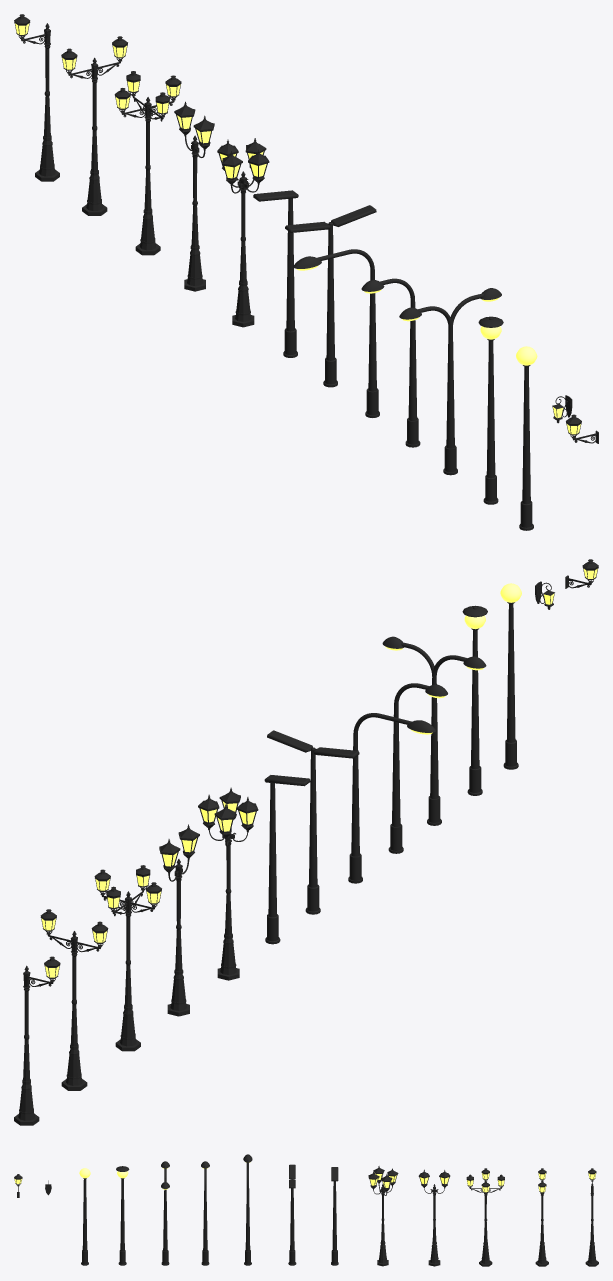
File: simple_collection_of_low_poly_street_lights_v2.glb
3 views of the same model, one above another, from view 1: azimuth 30°, elevation 25°; view 2: azimuth 150°, elevation 25°; view 3: azimuth 270°, elevation 25° (orthographic). The views are drawn at different scales.
Visible parts, largest first — view 1: FarolaDe4, FarolaDe1.006, FarolaDe2, FarolaDe1.001, FarolaModernaRodonaDe2, FarolaModernaDe2, FarolaModernaBola.001, FarolaModernaRodonaDe1.001, FarolaDe1, FarolaModernaBola, FarolaModernaDe1, FarolaModernaRodonaDe1; view 2: FarolaDe4, FarolaDe1.006, FarolaDe2, FarolaModernaDe2, FarolaDe1.001, FarolaModernaRodonaDe2, FarolaModernaRodonaDe1.001, FarolaModernaBola.001, FarolaDe1, FarolaModernaDe1, FarolaModernaBola, FarolaModernaRodonaDe1; view 3: FarolaDe4, FarolaDe1.006, FarolaDe2, FarolaModernaDe2, FarolaModernaBola.001, FarolaDe1.001, FarolaModernaRodonaDe2, FarolaModernaDe1, FarolaModernaRodonaDe1.001, FarolaModernaBola, FarolaModernaRodonaDe1, FarolaDe1.
Part boxes in pixels (<box>): FarolaDe4: <box>217,138,269,327</box>; FarolaDe1.006: <box>114,71,181,255</box>; FarolaDe2: <box>174,101,214,291</box>; FarolaDe1.001: <box>61,36,127,215</box>; FarolaModernaRodonaDe2: <box>399,288,501,475</box>; FarolaModernaDe2: <box>285,205,376,387</box>; FarolaModernaBola.001: <box>478,316,503,504</box>; FarolaModernaRodonaDe1.001: <box>293,249,379,417</box>; FarolaDe1: <box>14,14,59,181</box>; FarolaModernaBola: <box>516,346,537,530</box>; FarolaModernaDe1: <box>253,190,298,357</box>; FarolaModernaRodonaDe1: <box>361,278,420,447</box>; FarolaDe4: <box>198,787,258,980</box>; FarolaDe1.006: <box>94,865,161,1051</box>; FarolaDe2: <box>159,824,199,1016</box>; FarolaModernaDe2: <box>267,730,359,914</box>; FarolaDe1.001: <box>40,909,108,1090</box>; FarolaModernaRodonaDe2: <box>382,636,486,825</box>; FarolaModernaRodonaDe1.001: <box>348,713,435,883</box>; FarolaModernaBola.001: <box>462,605,487,795</box>; FarolaDe1: <box>14,956,60,1125</box>; FarolaModernaDe1: <box>264,775,310,944</box>; FarolaModernaBola: <box>500,583,521,769</box>; FarolaModernaRodonaDe1: <box>388,683,447,853</box>; FarolaDe4: <box>368,1166,398,1266</box>; FarolaDe1.006: <box>466,1168,504,1266</box>; FarolaDe2: <box>418,1169,450,1266</box>; FarolaModernaDe2: <box>288,1164,296,1265</box>; FarolaModernaBola.001: <box>116,1166,129,1265</box>; FarolaDe1.001: <box>535,1168,548,1266</box>; FarolaModernaRodonaDe2: <box>161,1161,169,1265</box>; FarolaModernaDe1: <box>331,1167,338,1265</box>; FarolaModernaRodonaDe1.001: <box>243,1154,252,1265</box>; FarolaModernaBola: <box>79,1168,90,1265</box>; FarolaModernaRodonaDe1: <box>201,1161,209,1265</box>; FarolaDe1: <box>585,1168,598,1266</box>.
Bounding box in the file's own units: 2.64 × 3.58 × 19.52.
